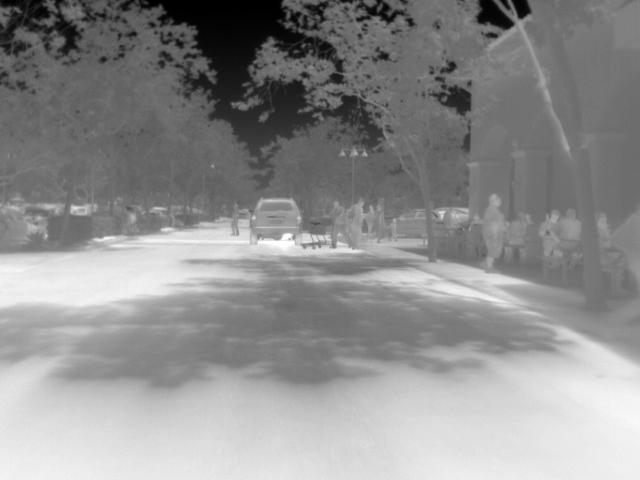car: (248, 196, 303, 244), (389, 208, 426, 237)
person: (476, 191, 507, 271), (540, 210, 559, 261), (594, 210, 616, 251), (324, 199, 342, 248), (557, 205, 580, 241), (228, 201, 241, 236), (362, 206, 377, 234)
